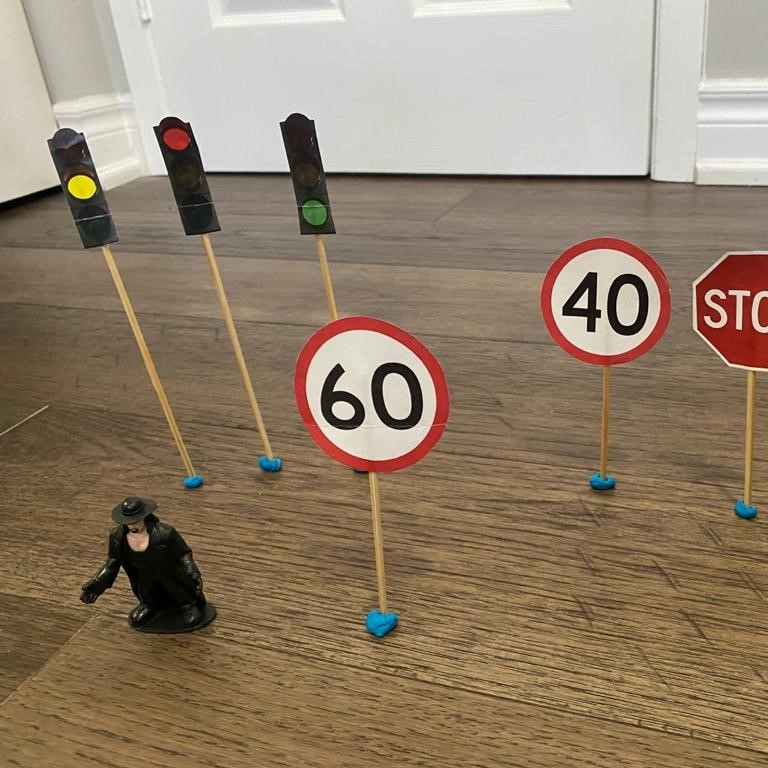Green Traffic Light: (275, 112, 351, 245)
Person: (75, 491, 221, 646)
Red Traffic Light: (148, 115, 228, 240)
Speed Limit 40: (536, 230, 676, 370)
Speed Limit 60: (291, 309, 451, 478)
Yellow Traffic Light: (43, 127, 129, 251)
